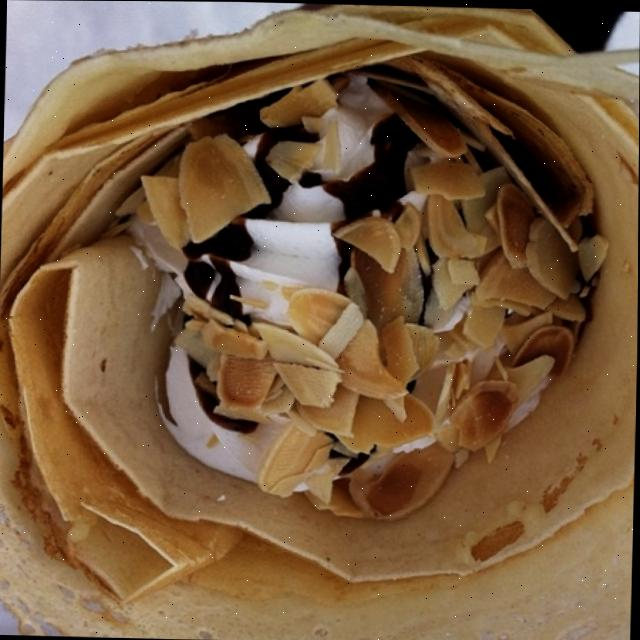蛋糕甜品: (12, 18, 640, 640)
